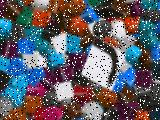Right: (81, 36, 125, 92)
